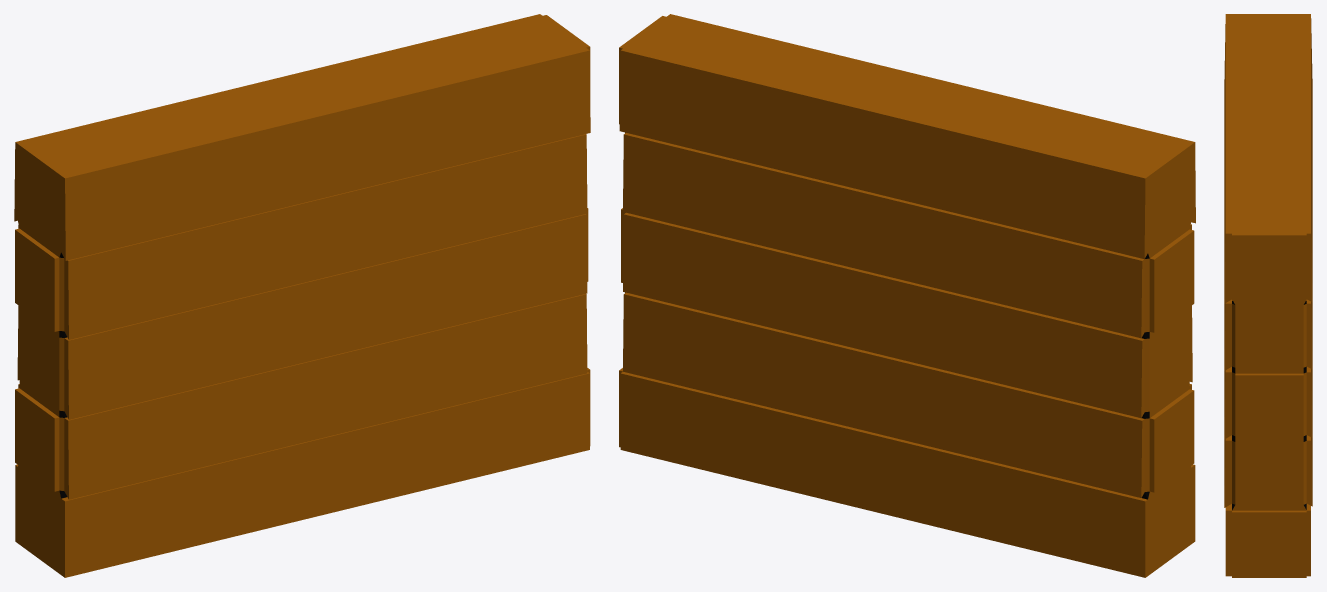
File: WoodenWall.fbx
3 views of the same model, side by side, from view 1: azimuth 30°, elevation 25°; view 2: azimuth 150°, elevation 25°; view 3: azimuth 270°, elevation 25° (orthographic). The views are drawn at different scales.
Parts seen in each view (by area): view 1: Wall; view 2: Wall; view 3: Wall.
Boxes of the visible parts, <box> form: Wall: <box>14,14,590,577</box>; Wall: <box>619,14,1195,577</box>; Wall: <box>1224,14,1312,577</box>.
Bounding box in the file's own units: 1093 × 182 × 782.
